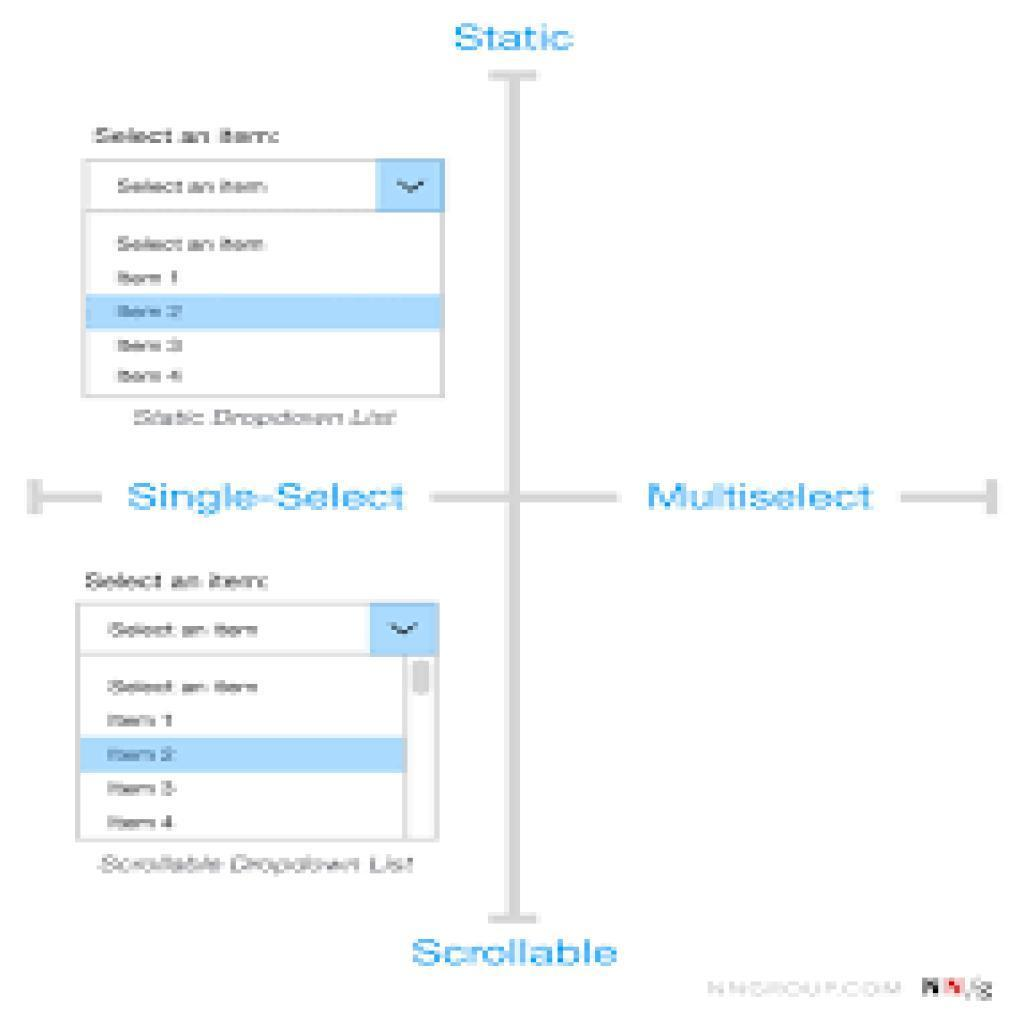button: (85, 294, 439, 333), (75, 737, 408, 774)
dropdown: (77, 606, 440, 658), (87, 160, 444, 211)
